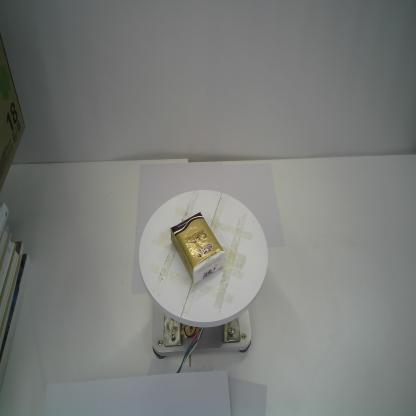Tissue: (170, 210, 226, 284)
